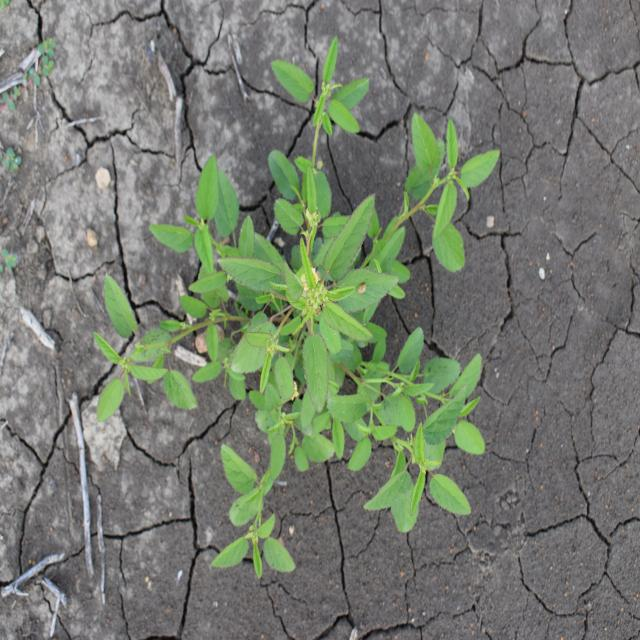PricklySida: (92, 36, 502, 580)
SpottedSpurge: (1, 38, 58, 172)
